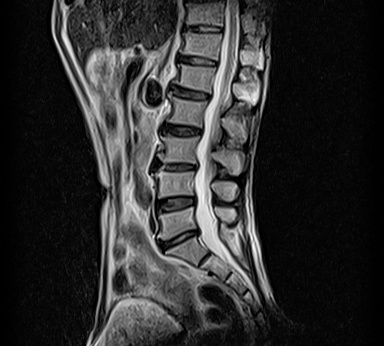L1,v2: (163, 59, 228, 96)
L1-L2,v2: (160, 75, 220, 113)
L2,v2: (158, 92, 216, 129)
L2-L3,v1: (154, 114, 210, 148)
L3,v2: (149, 131, 208, 166)
L3-L4,v1: (148, 150, 206, 182)
L4,v2: (148, 167, 204, 197)
L4-L5,v2: (147, 184, 205, 223)
L5,v2: (148, 203, 206, 239)
L5-S1,v2: (154, 217, 210, 253)
T12-L1,v1: (165, 42, 230, 77)
